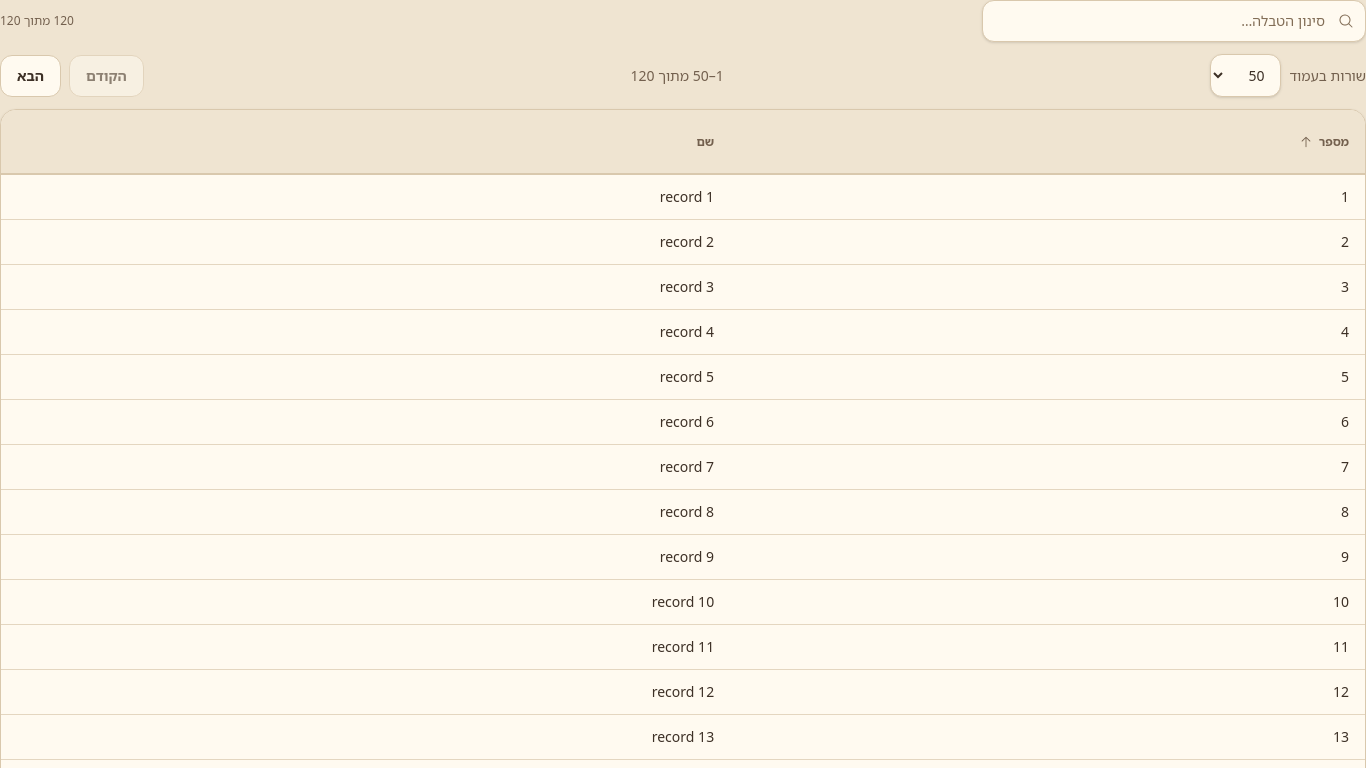
Test: DataTable pagination › keeps empty results empty and disables navigation without an invalid range
Click the button with aria-label "העמוד הבא": (30, 76) [0, 54, 61, 96]
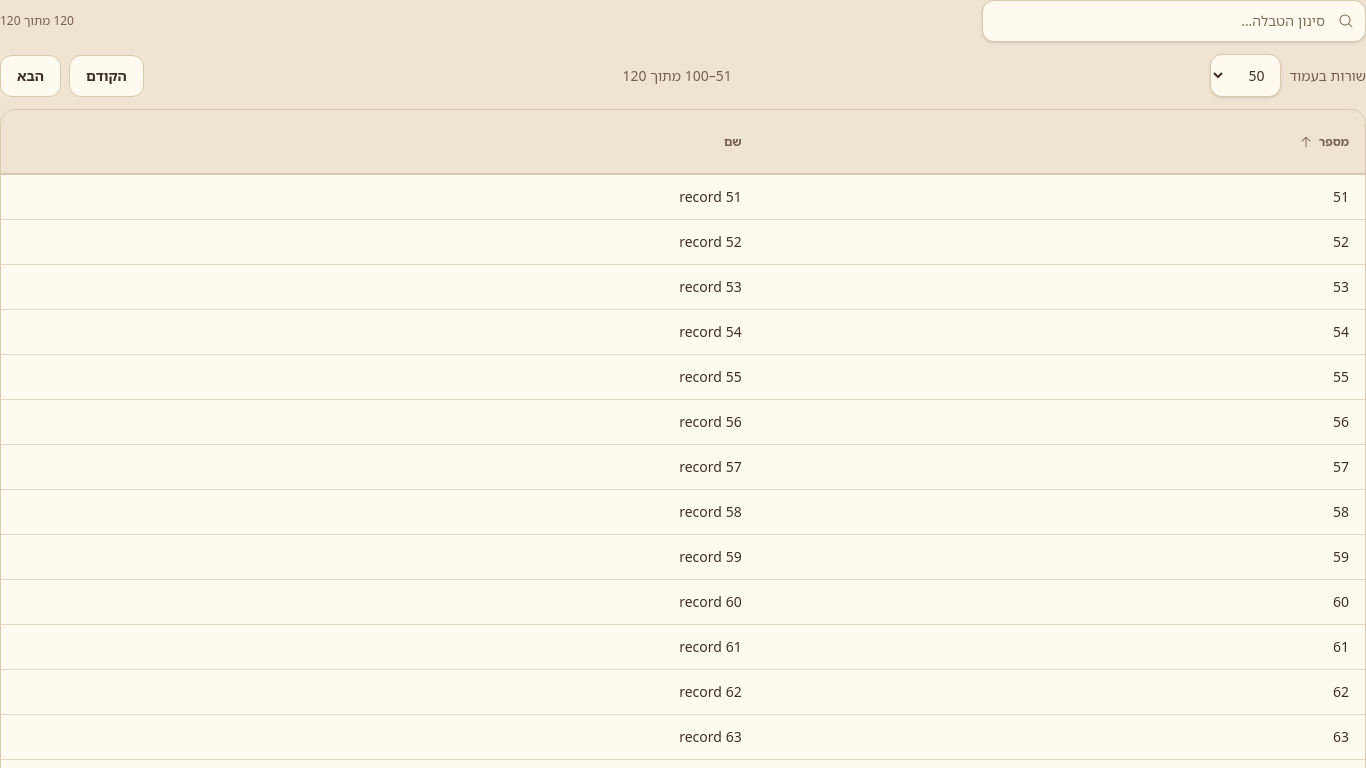
In the field labelled "סינון הטבלה": (1174, 21) [982, 0, 1365, 42], type "missing"
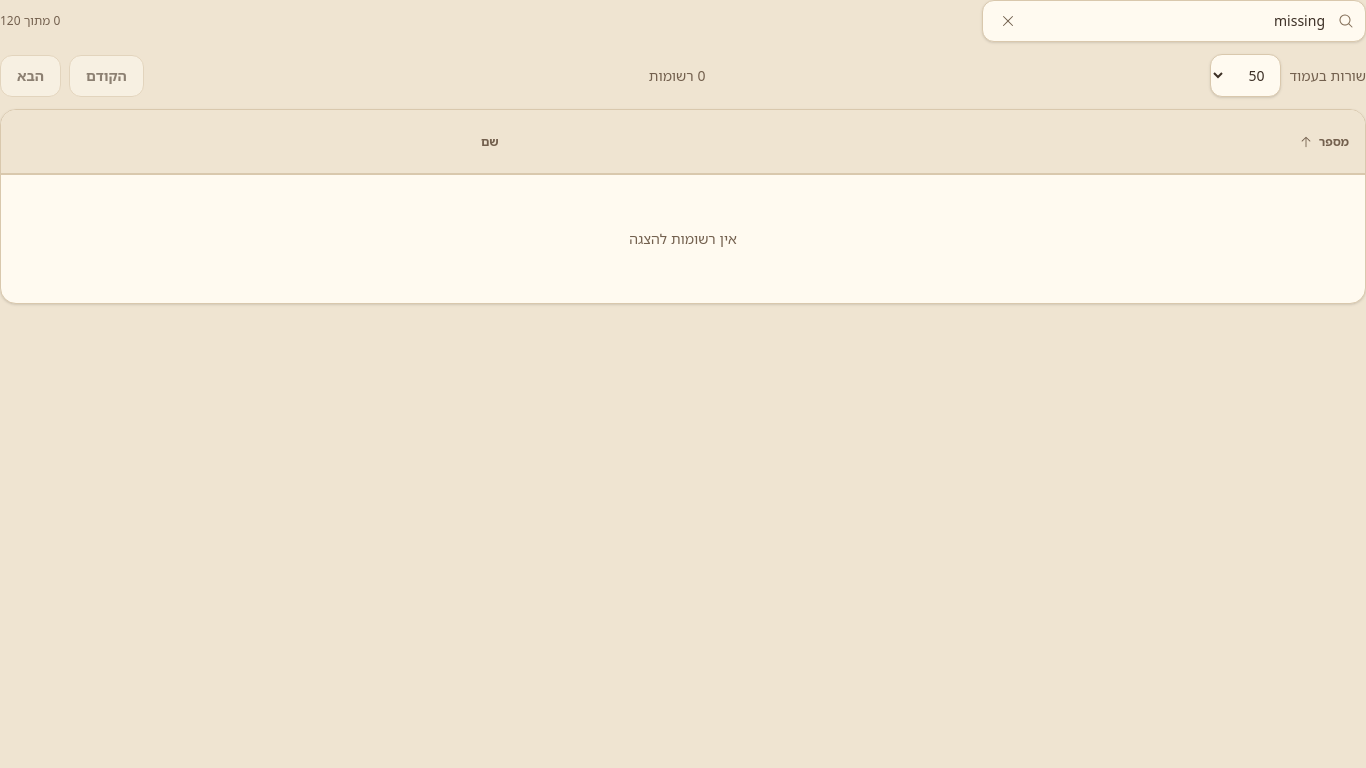
Now the text "אין רשומות להצגה" is shown, box [629, 229, 737, 248]
Now the text "0 רשומות" is shown, box [649, 66, 705, 86]
Now the button with aria-label "העמוד הבא" is disabled, box [0, 54, 61, 96]
